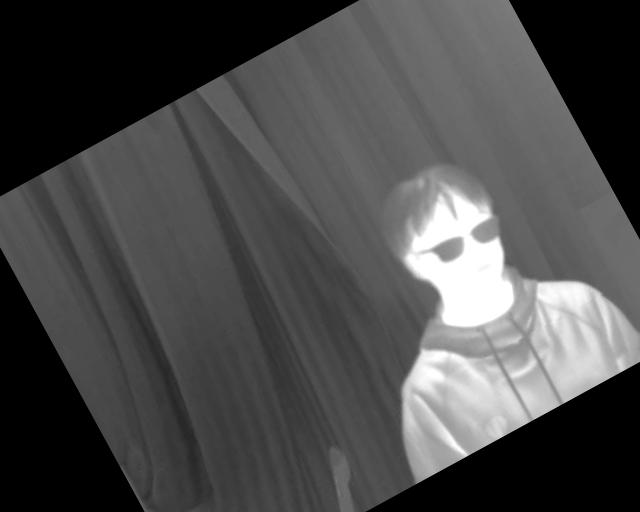face: (364, 146, 528, 320)
